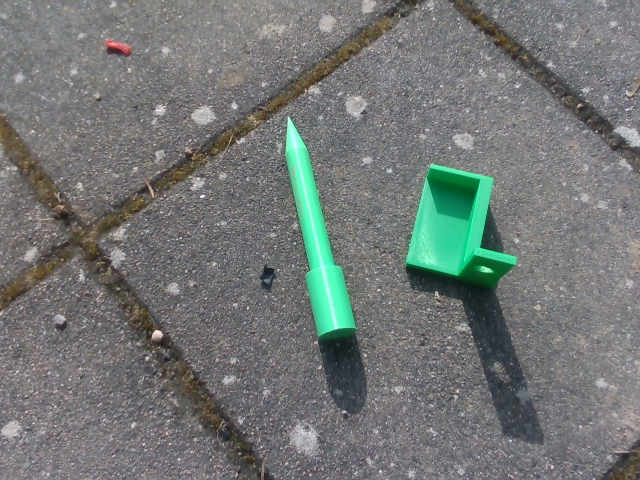Probe: (280, 110, 364, 345)
